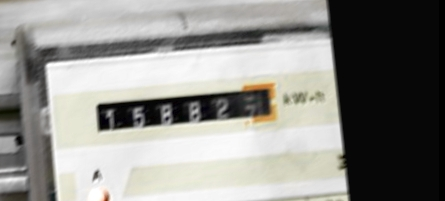1: (102, 106, 118, 130)
2: (212, 96, 231, 121)
5: (130, 103, 146, 129)
7: (243, 100, 257, 118)
8: (185, 99, 202, 124), (158, 102, 173, 126)
screen: (85, 74, 287, 150)
